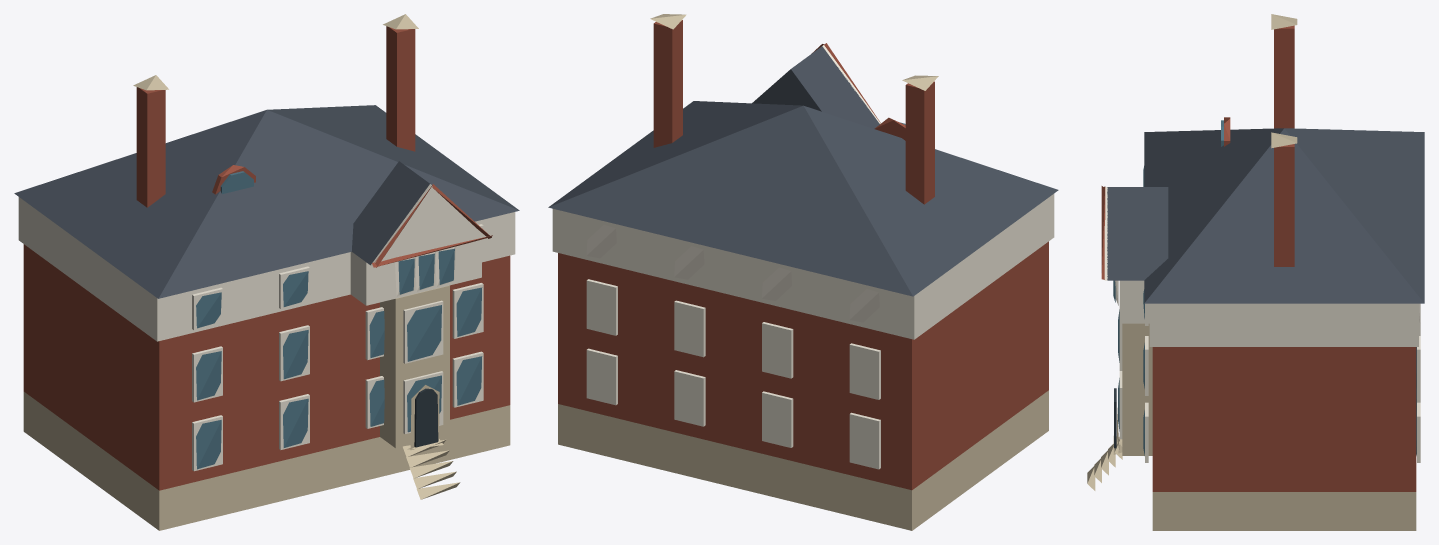
File: moco-museum.lod1.glb
The picture shows the model from 3 angles, left to right: view 1: azimuth 30°, elevation 25°; view 2: azimuth 150°, elevation 25°; view 3: azimuth 270°, elevation 25°; orthographic projection. The views are drawn at different scales.
Parts seen in each view (by area): view 1: moco-museum; view 2: moco-museum; view 3: moco-museum.
Boxes of the visible parts, x1,y1,x2,y2 form: moco-museum: (14, 14, 519, 530); moco-museum: (548, 14, 1058, 530); moco-museum: (1087, 14, 1424, 530).
Size of the model in its own units: 22.56 by 22.9 by 18.74.
